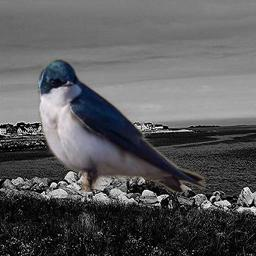Swallow: (37, 58, 206, 192)
